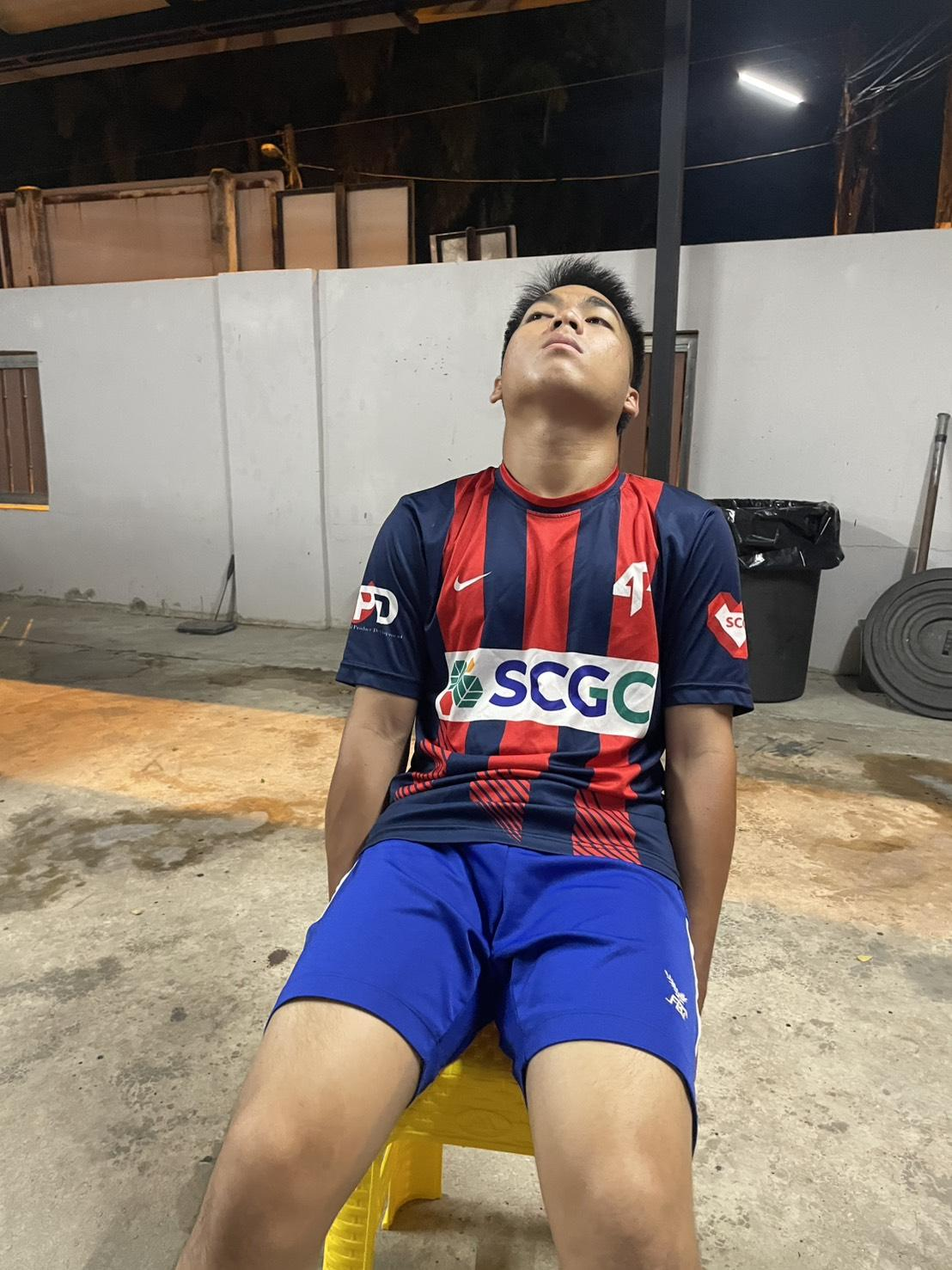BadPosture: (326, 258, 749, 978)
